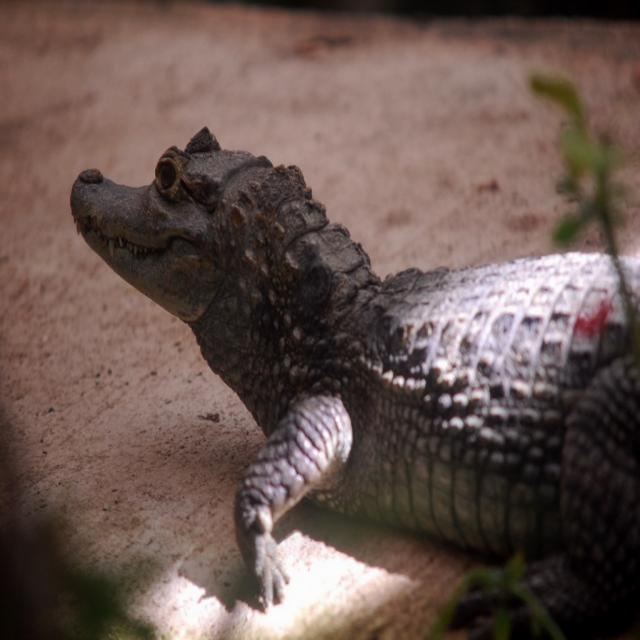crocodile: (64, 124, 639, 639)
